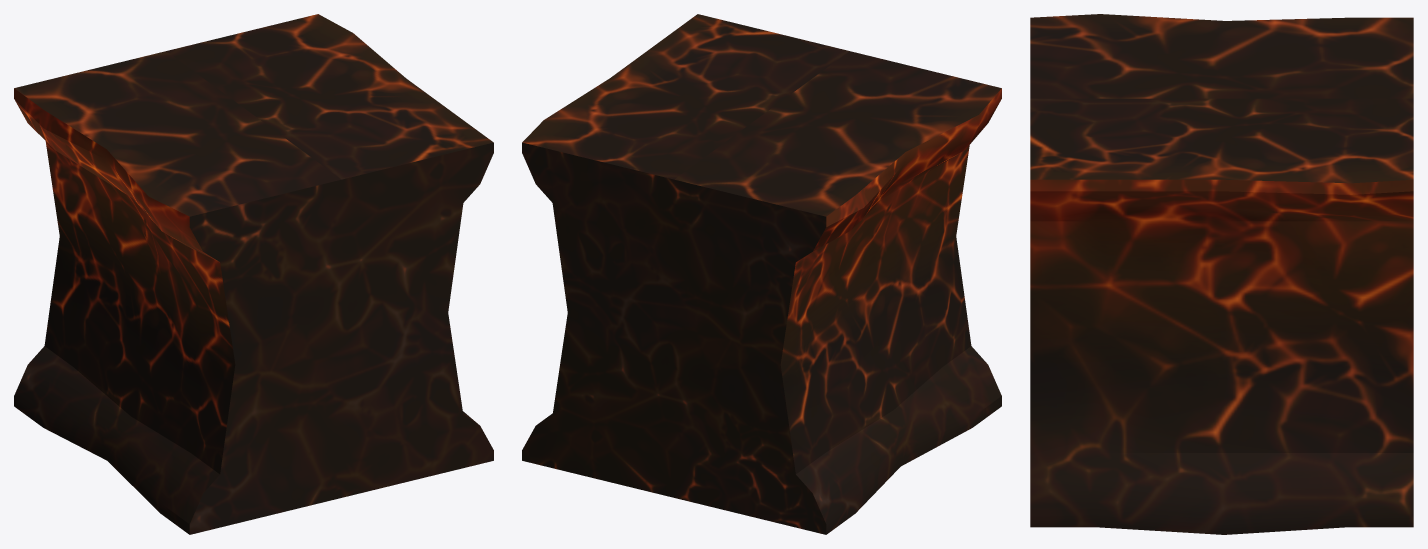
Rendered from wall_09_tunnel_LP.fbx.
3 views of the same model, side by side, from view 1: azimuth 30°, elevation 25°; view 2: azimuth 150°, elevation 25°; view 3: azimuth 270°, elevation 25° (orthographic). The views are drawn at different scales.
Parts seen in each view (by area): view 1: wall_09; view 2: wall_09; view 3: wall_09.
Part boxes in pixels (x1=…): wall_09: x1=14, y1=14, x2=493, y2=534; wall_09: x1=522, y1=14, x2=1001, y2=534; wall_09: x1=1030, y1=14, x2=1413, y2=534.
Size of the model in its own units: 107 by 101 by 100.
